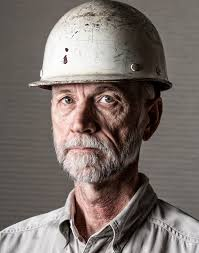Person_wearing_helmet: (22, 2, 172, 114)
